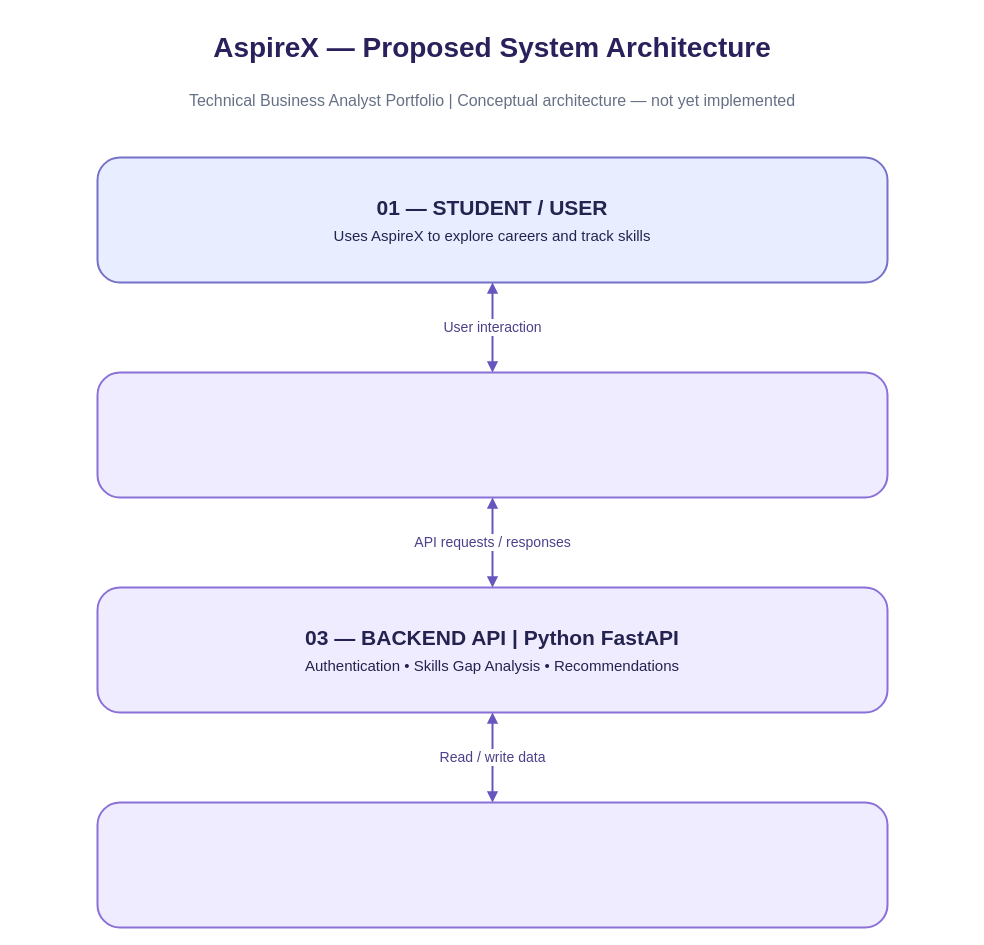
The diagram is 984 pixels wide and 945 high, and some of its shapes have lost their labels. The centre of each missing label's shape, as x and y in pixels:
"02 — FRONTEND | Next.js Dashboard • Skill Profile • Career Explorer" belongs at (492,434).
"04 — DATABASE | PostgreSQL Students • Skills • Careers • Learning Progress" belongs at (492,864).
